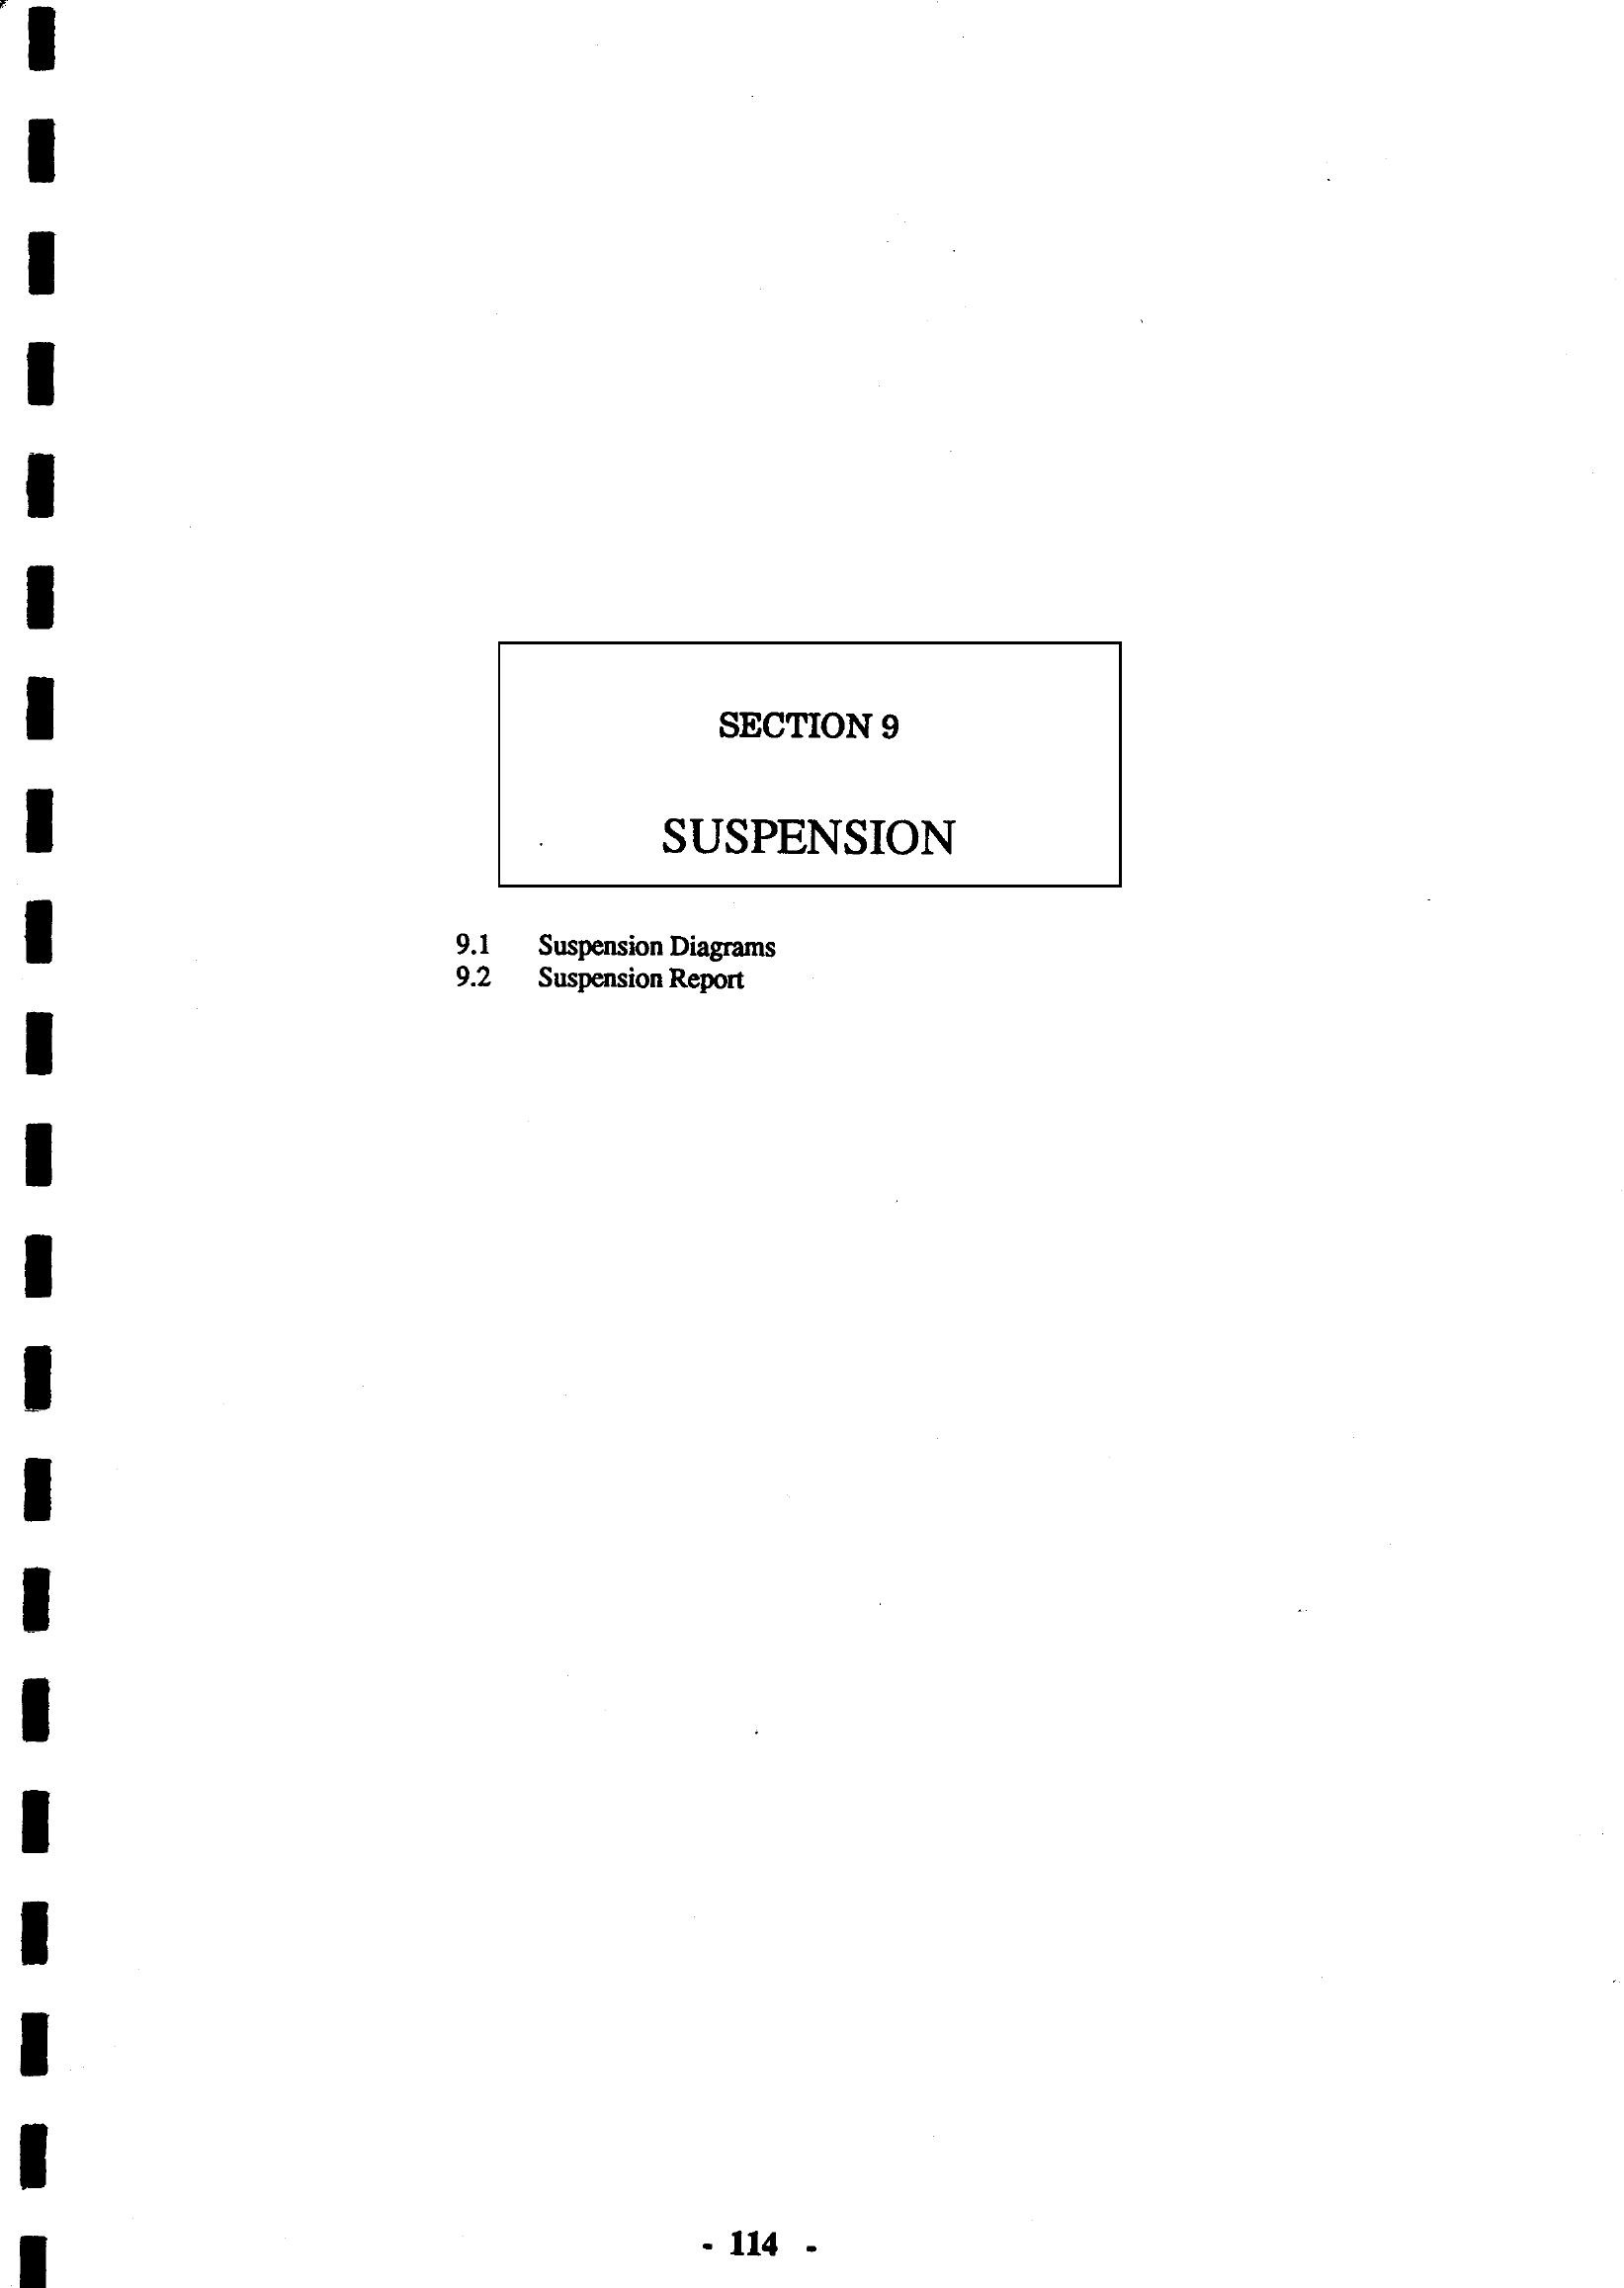text: (367, 620, 1246, 1049)
